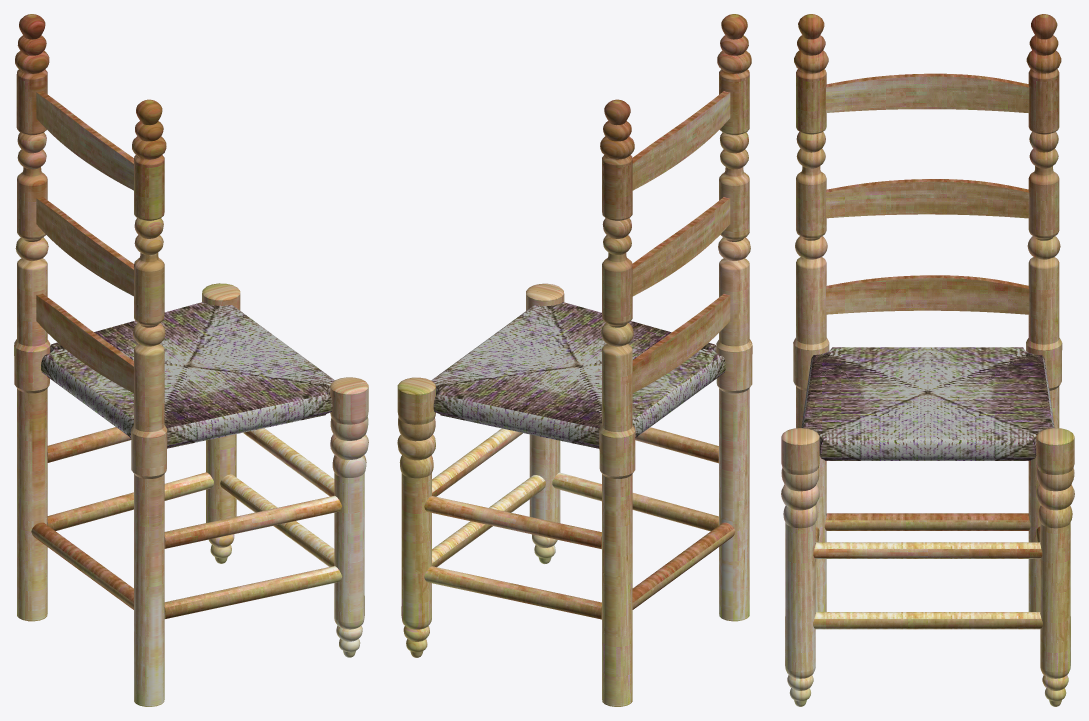
3 views of the same model, side by side, from view 1: azimuth 30°, elevation 25°; view 2: azimuth 150°, elevation 25°; view 3: azimuth 270°, elevation 25° (orthographic).
Parts seen in each view (by area): view 1: vert, hor, chair; view 2: vert, hor, chair; view 3: vert, hor, chair.
Part boxes in pixels (bbox=[...]): vert: bbox=[14, 14, 368, 706]; hor: bbox=[31, 91, 341, 618]; chair: bbox=[41, 302, 334, 448]; vert: bbox=[397, 14, 752, 706]; hor: bbox=[424, 91, 735, 619]; chair: bbox=[431, 302, 725, 448]; vert: bbox=[781, 14, 1074, 706]; hor: bbox=[813, 73, 1042, 629]; chair: bbox=[801, 347, 1054, 460].
Size of the model in its own units: 2068 by 5202 by 2326.
